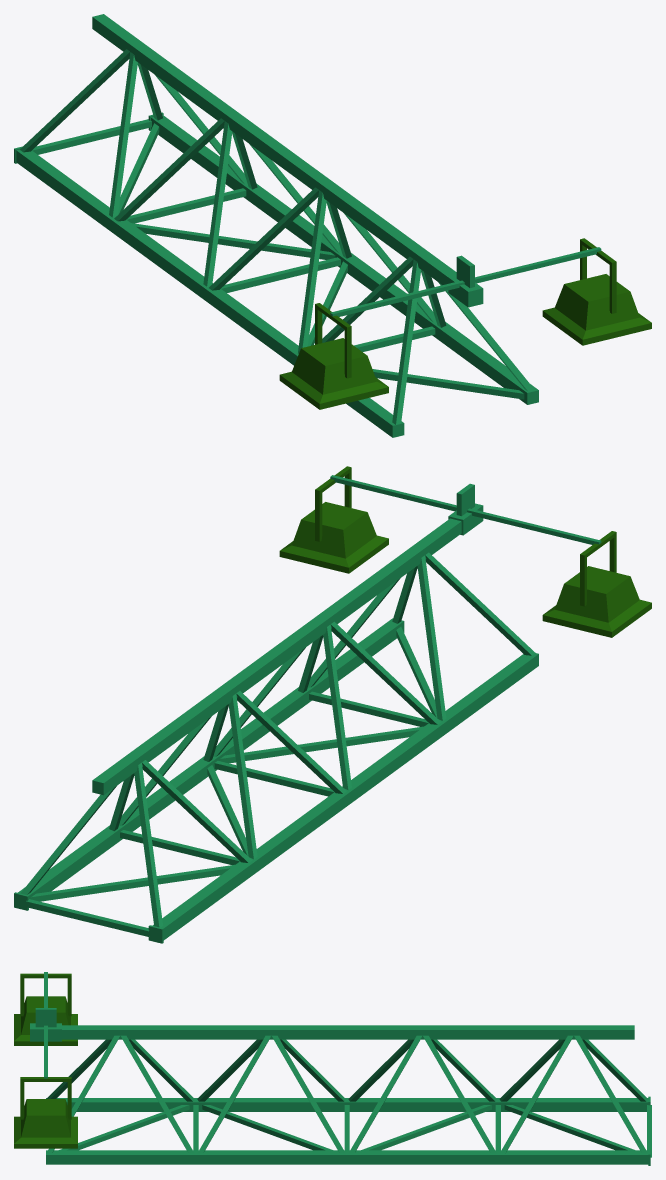
Rendered from towerCrane_jib_unit.fbx.
The picture shows the model from 3 angles, top to bottom: view 1: azimuth 30°, elevation 25°; view 2: azimuth 150°, elevation 25°; view 3: azimuth 270°, elevation 25°; orthographic projection. The views are drawn at different scales.
Parts seen in each view (by area): view 1: towerCrane_jib_unit; view 2: towerCrane_jib_unit; view 3: towerCrane_jib_unit.
Boxes of the visible parts, x1=… form: towerCrane_jib_unit: x1=14, y1=14, x2=651, y2=437; towerCrane_jib_unit: x1=14, y1=466, x2=651, y2=943; towerCrane_jib_unit: x1=14, y1=972, x2=651, y2=1165.
Size of the model in its own units: 345 by 159 by 718.
